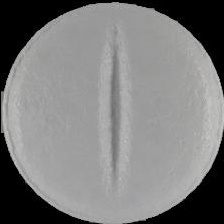0615-8025: (0, 0, 224, 224)
